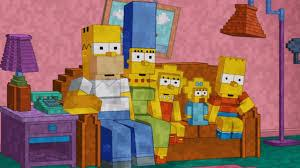Bart: (208, 50, 253, 146)
Homer: (70, 20, 154, 168)
Lisa: (153, 63, 190, 140)
Maggie: (180, 75, 215, 128)
Marge: (120, 2, 172, 160)
